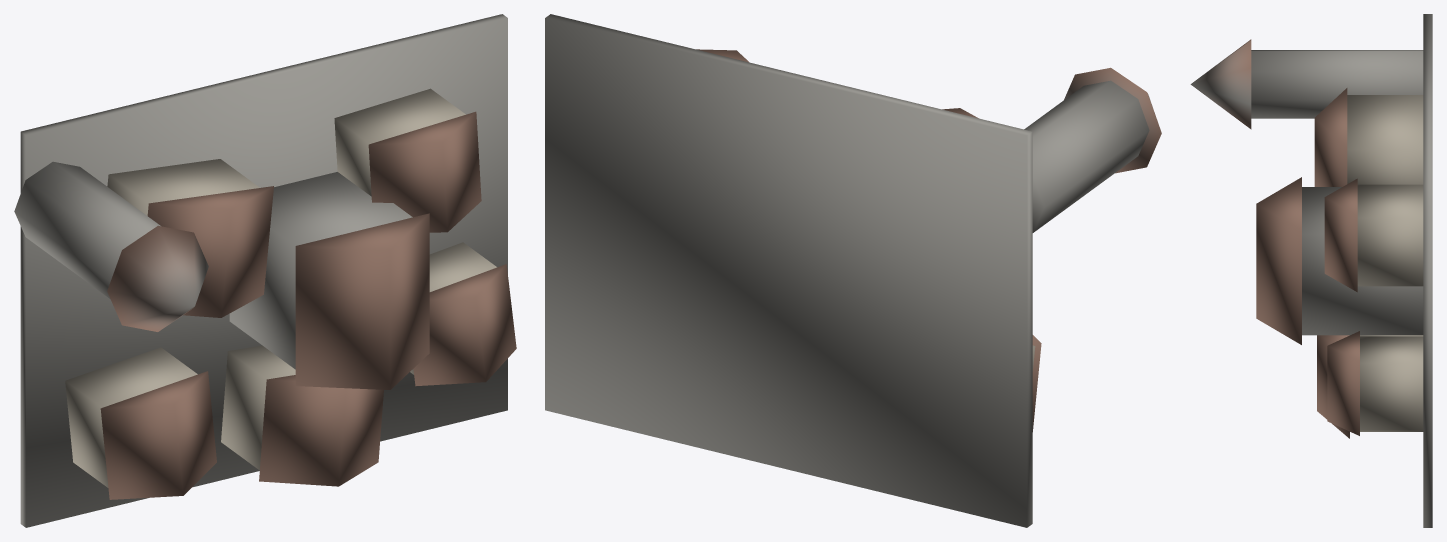
File: settlement.gltf
The picture shows the model from 3 angles, left to right: view 1: azimuth 30°, elevation 25°; view 2: azimuth 150°, elevation 25°; view 3: azimuth 270°, elevation 25°; orthographic projection. The views are drawn at different scales.
Visible parts, largest first — view 1: Settlement; view 2: Settlement; view 3: Settlement.
Part boxes in pixels (x1=…): Settlement: x1=14, y1=14, x2=516, y2=527; Settlement: x1=545, y1=14, x2=1161, y2=527; Settlement: x1=1190, y1=14, x2=1432, y2=527.
Size of the model in its own units: 9.45 by 7 by 4.78.
